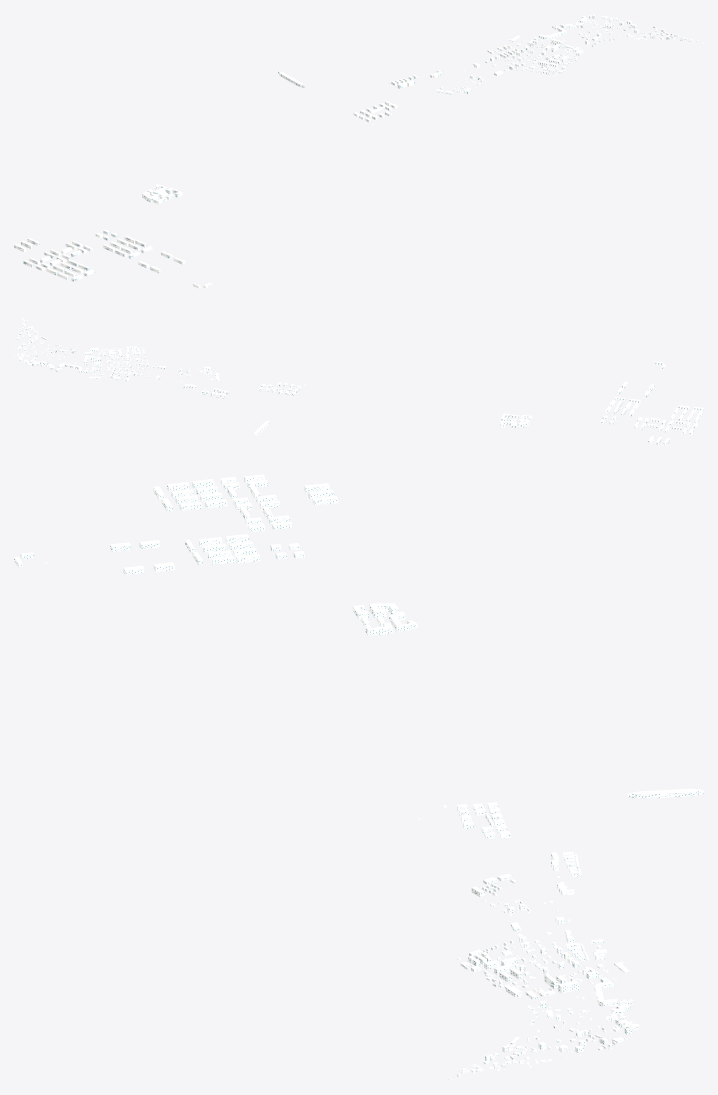
The model's file is district-seabreeze.glb.
The picture shows the model from 3 angles, top to bottom: view 1: azimuth 30°, elevation 25°; view 2: azimuth 150°, elevation 25°; view 3: azimuth 270°, elevation 25°; orthographic projection. The views are drawn at different scales.
Visible parts, largest first — view 1: estimated, mapped; view 2: estimated, mapped; view 3: estimated, mapped.
Boxes of the visible parts, x1,y1,x2,y2 form: estimated: (14, 14, 703, 288); mapped: (353, 16, 643, 122); estimated: (14, 317, 703, 445); mapped: (28, 336, 301, 398); estimated: (14, 474, 703, 1080); mapped: (456, 802, 639, 1044).
Bounding box in the file's own units: 5518 × 49.01 × 2674.
Materials: 3 (1 with a texture image).
